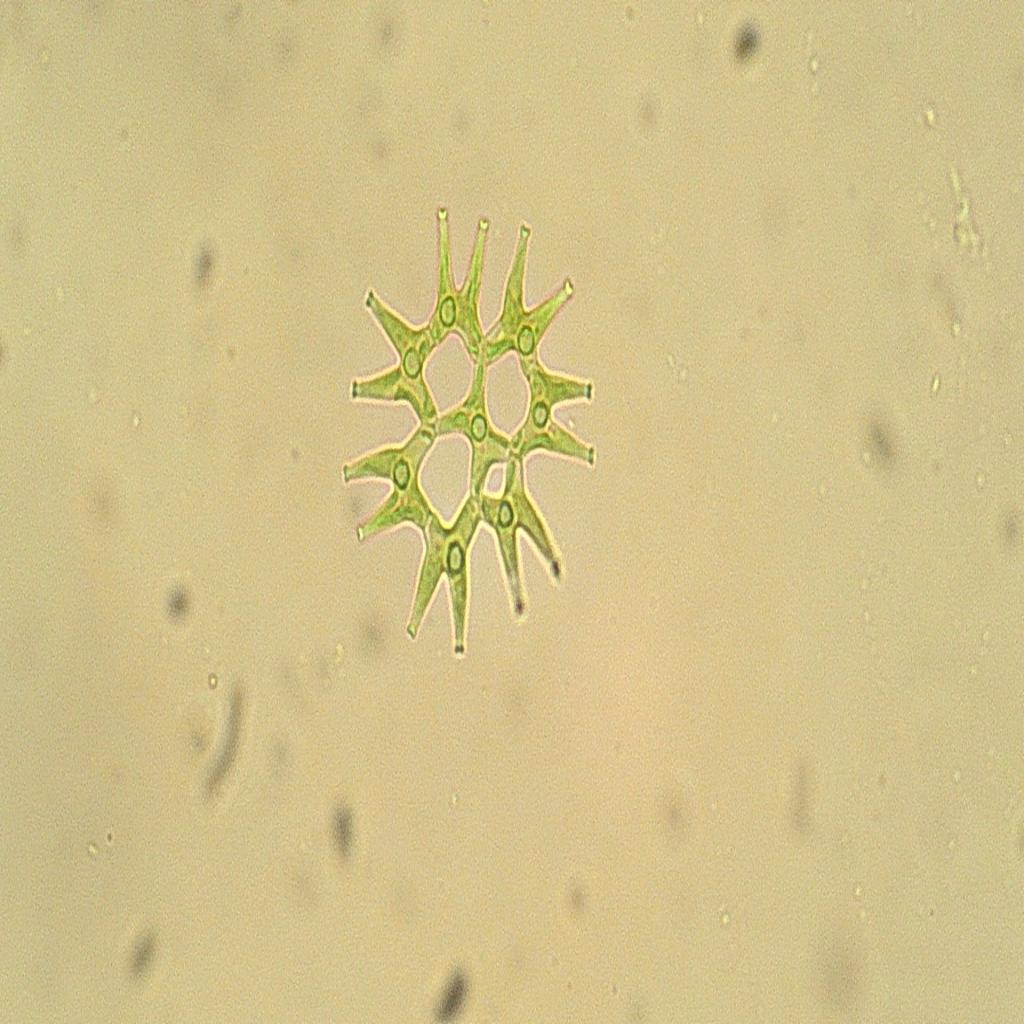Pediastrum_75T: (333, 184, 612, 672)
